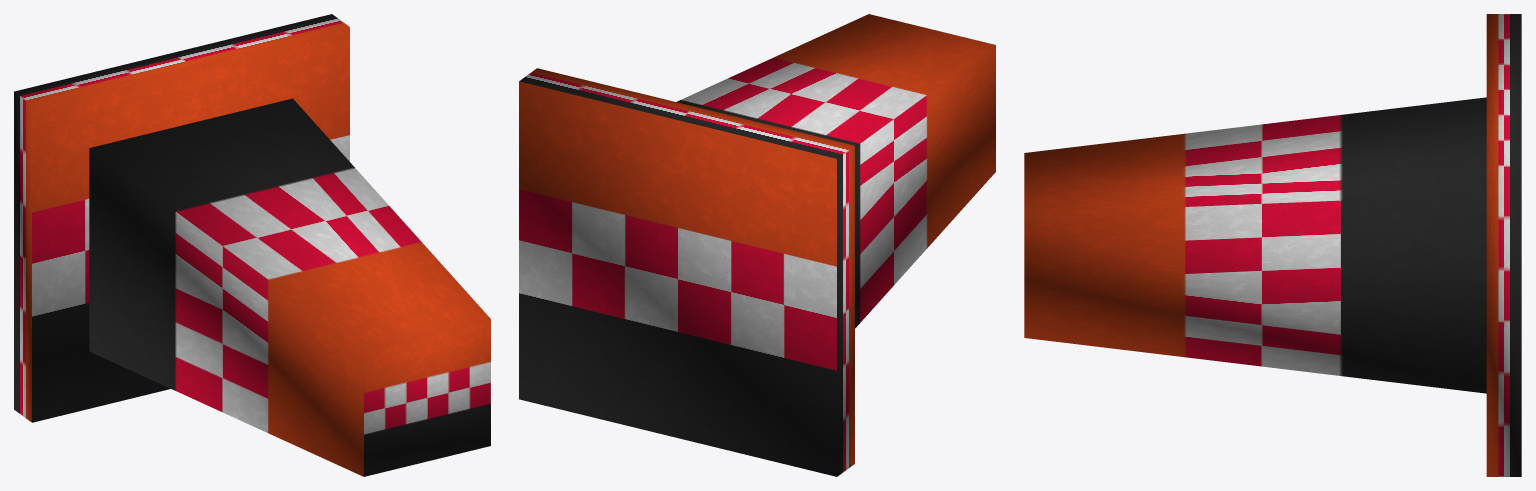
The model's file is aws_TrafficCone_01_coliision.obj.
3 views of the same model, side by side, from view 1: azimuth 30°, elevation 25°; view 2: azimuth 150°, elevation 25°; view 3: azimuth 270°, elevation 25° (orthographic). The views are drawn at different scales.
Size of the model in its own units: 51.08 by 48.81 by 70.75.
